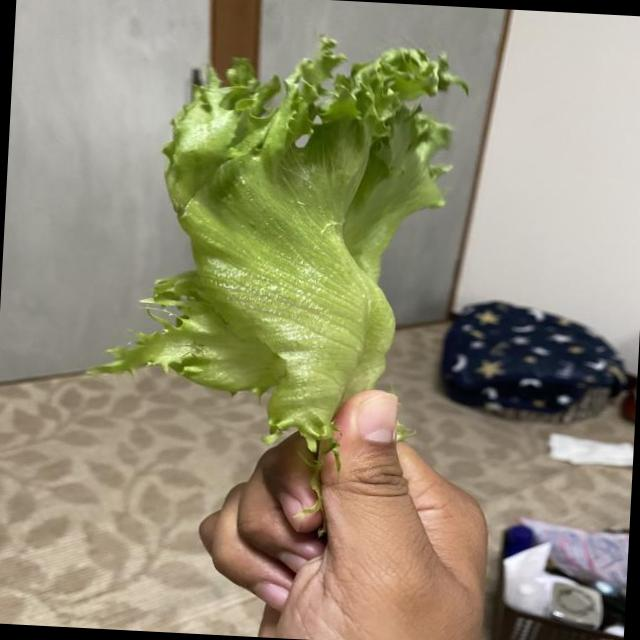Lettuce-Ready-to-Harvest: (98, 39, 466, 469)
